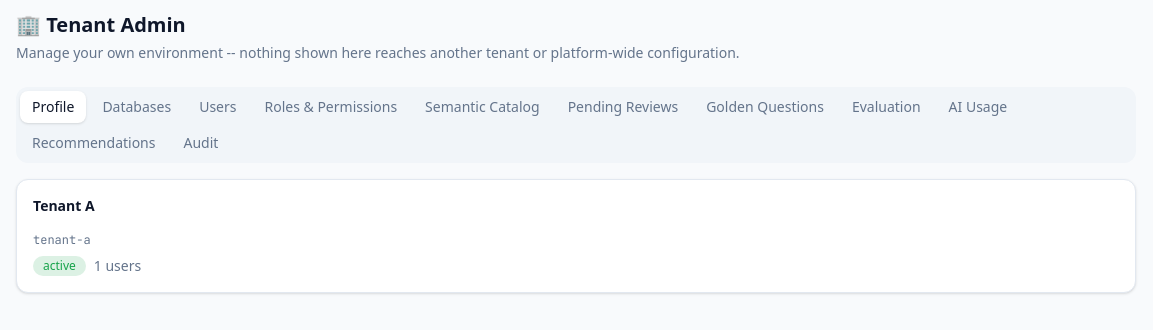
it: TenantAdmin › renders the dashboard read-only for an auditor
The image size is (1153, 330).
Click the tab "Users".
click(218, 107)  # box left=187, top=91, right=248, bottom=123
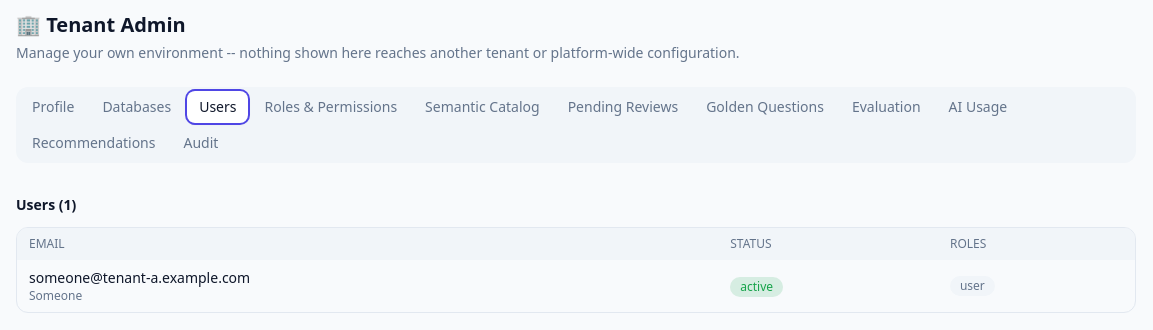
Expected: the text "someone@tenant-a.example.com" is shown, left=29, top=268, right=250, bottom=287
